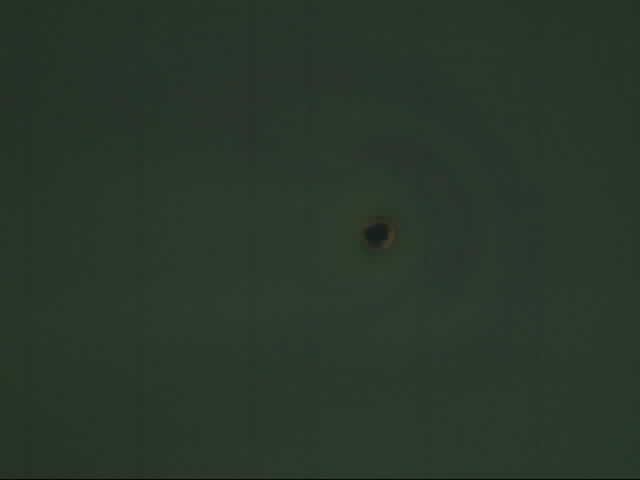PIQ PARTICLE: (358, 215, 398, 255)
